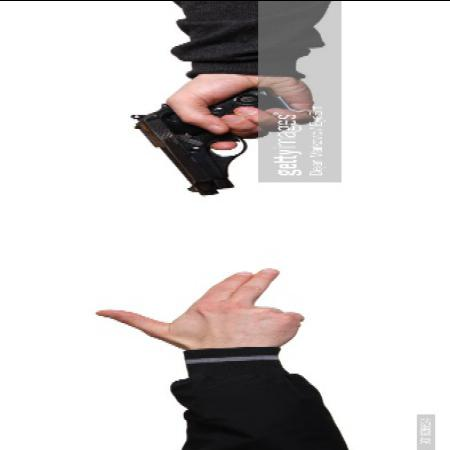Pistol: (128, 83, 292, 197)
